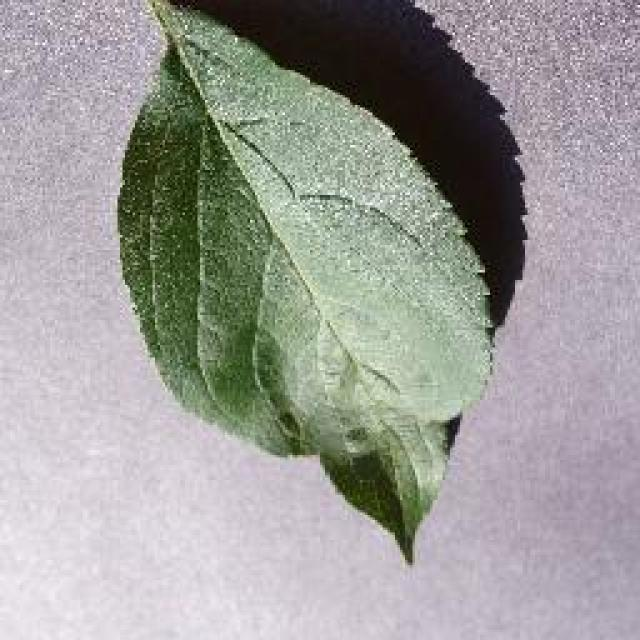apple healthy: (110, 0, 520, 562)
